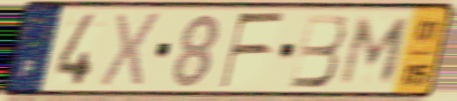4: (52, 11, 100, 89)
8: (171, 11, 223, 90)
B: (287, 12, 349, 91)
F: (218, 10, 289, 91)
M: (336, 15, 415, 87)
X: (96, 10, 165, 91)
